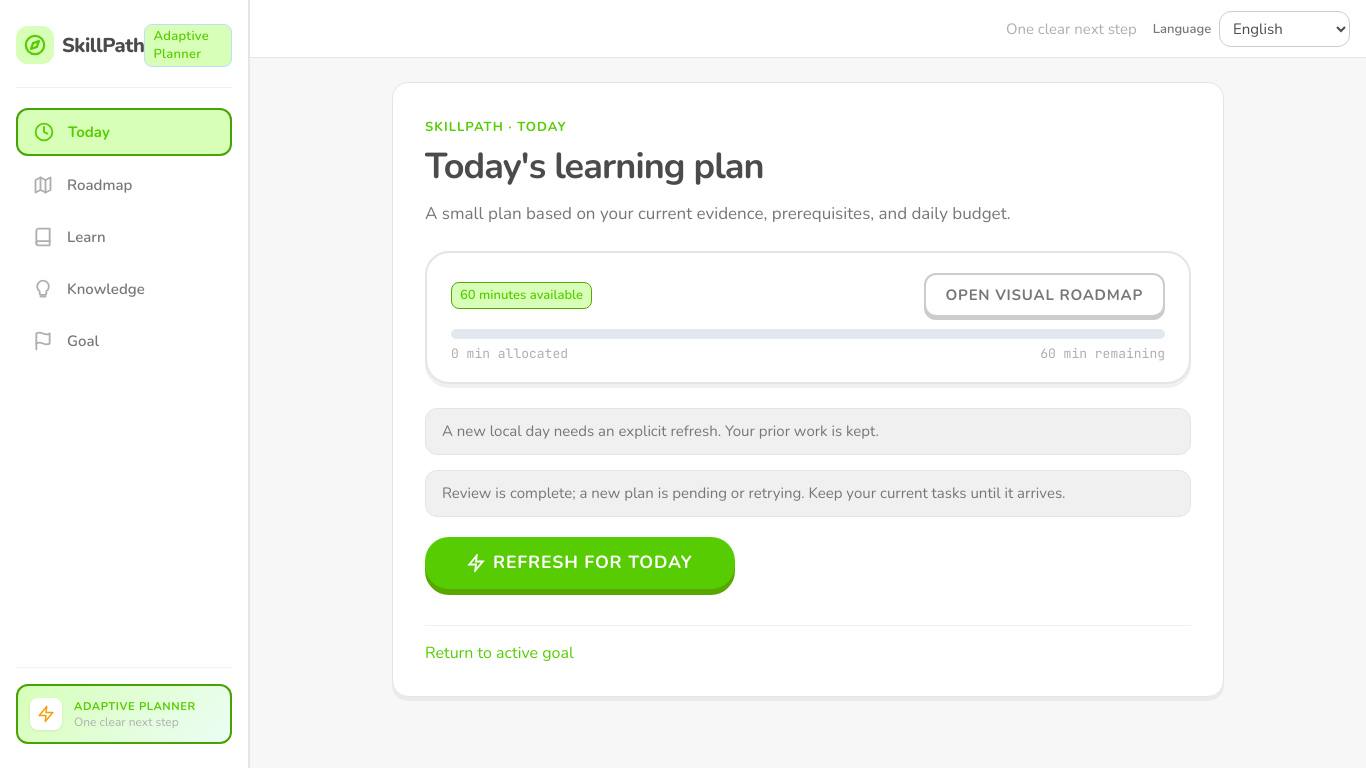
Test: Phase 6 Today and roadmap › shows pending replan and explicitly refreshes a missed local day
Expected: the text "new local day needs an explicit refresh" is shown, [442,421,879,441]
Expected: the text "new plan is pending or retrying" is shown, [442,483,1066,503]
What coordinates should you click on to do the following:
click the button "Refresh for today"
I would click on:
 (580, 563)
Its box is [425,537,734,589].
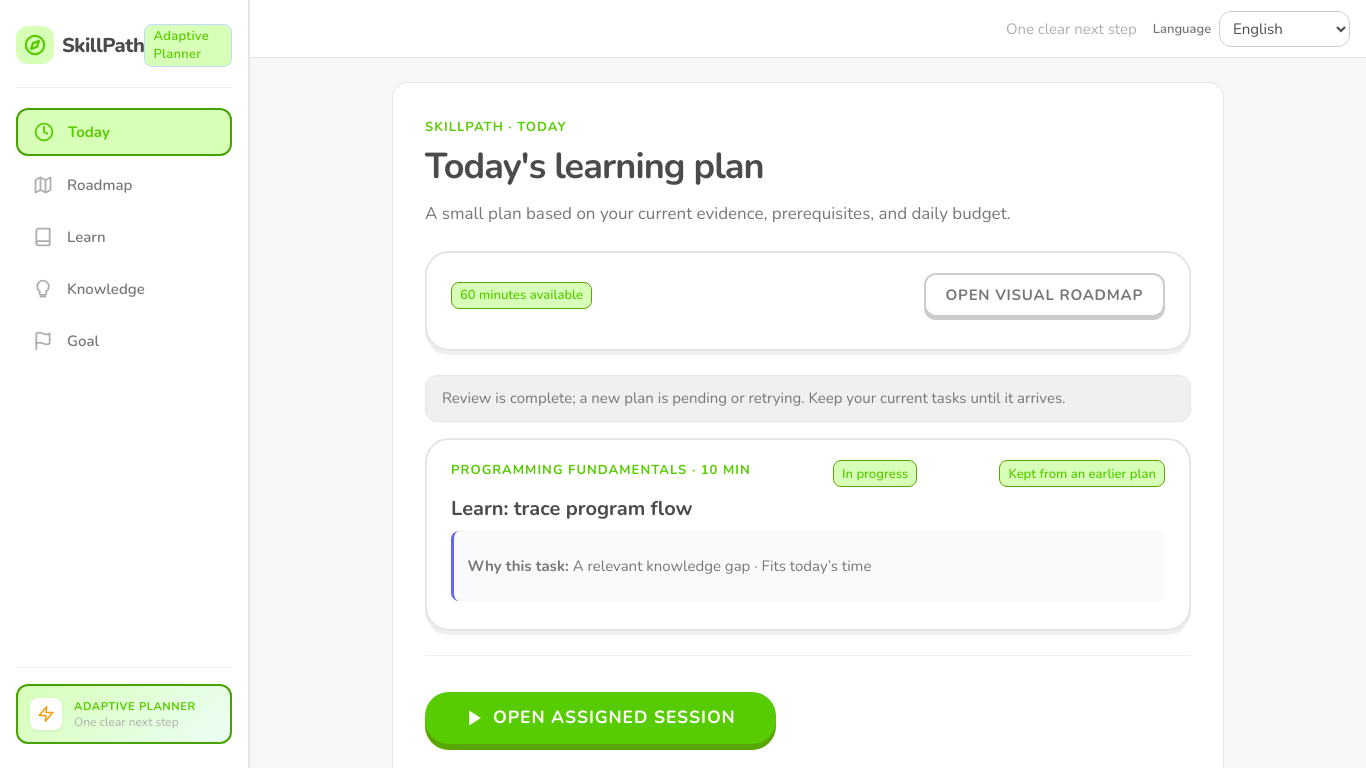
Expected: the text "Kept from an earlier plan" is shown, [999,460,1165,487]
